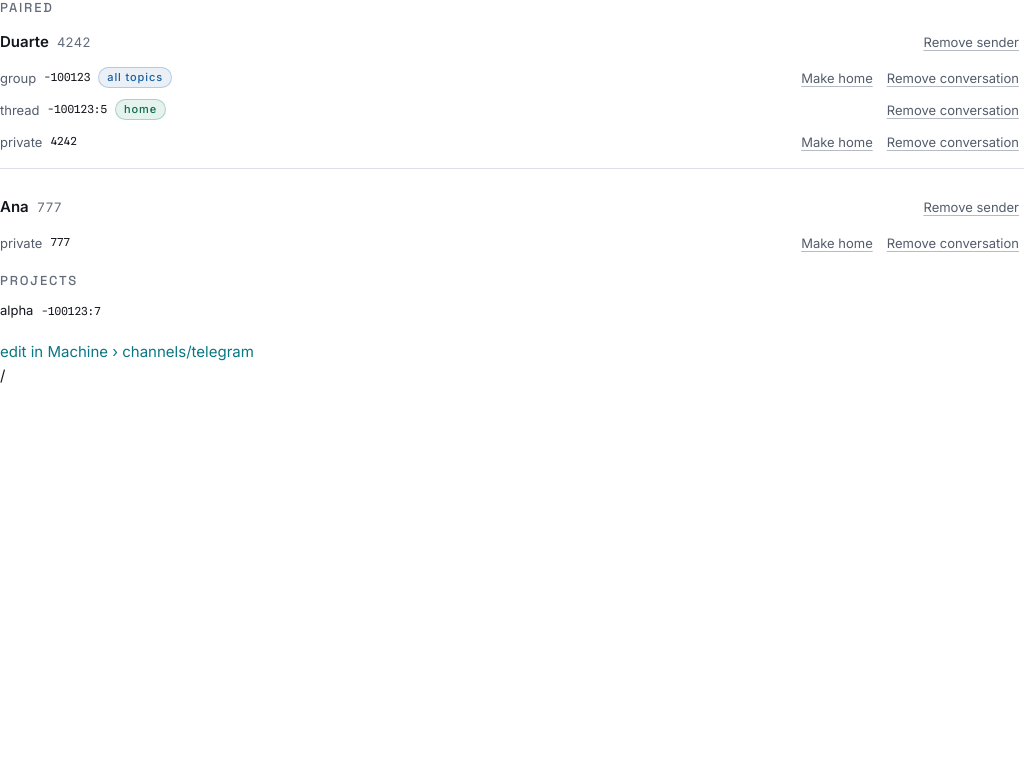
Test: IdentitiesPanel › actions › removes a conversation only after the confirmation, with the ref encoded
Expected: the text "Duarte" is shown, x1=0 y1=30 x2=49 y2=53
Click the button "Remove conversation" in the row of "thread": [953, 110] box x1=882 y1=96 x2=1023 y2=124
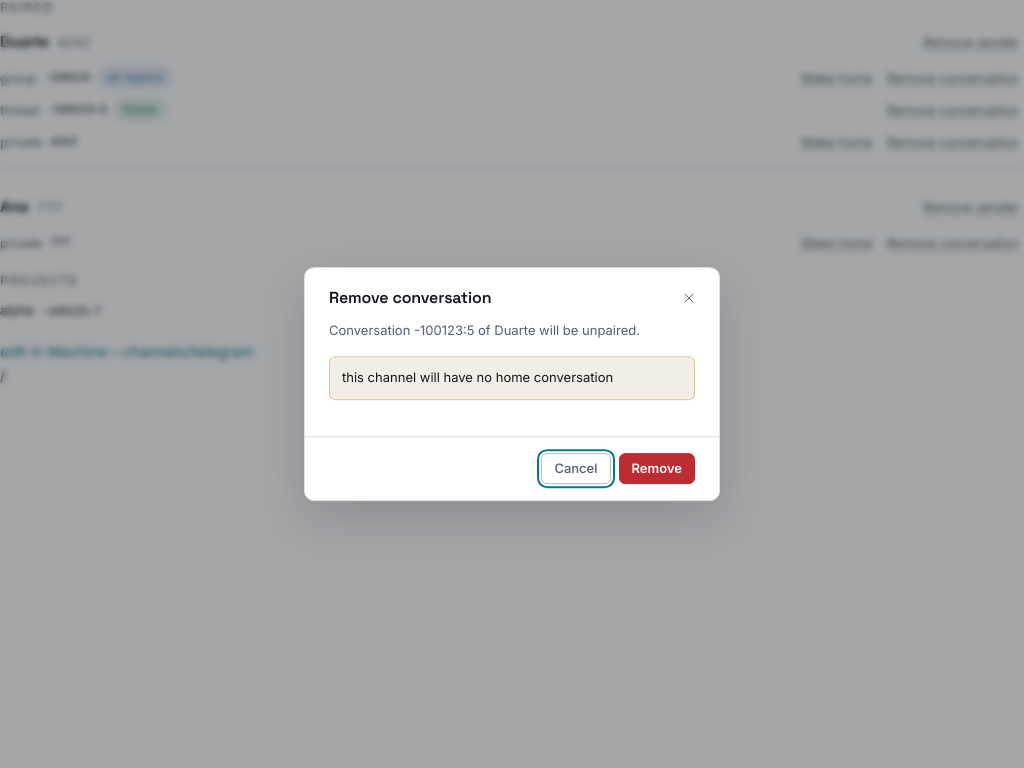
Expected: the button "Remove" is shown
Click the button "Remove": [657, 468] box x1=618 y1=453 x2=695 y2=484
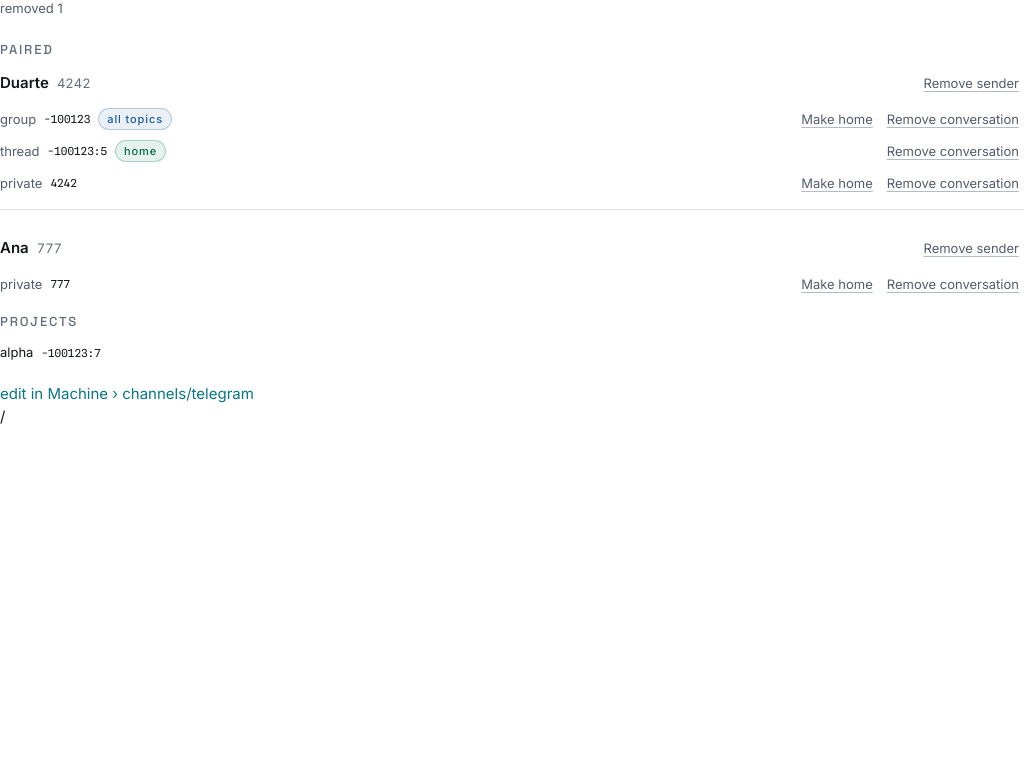
Expected: the text "removed 1" is shown, x1=0 y1=0 x2=63 y2=16
